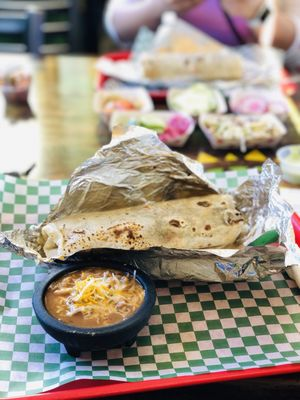sushi: (31, 262, 157, 356)
